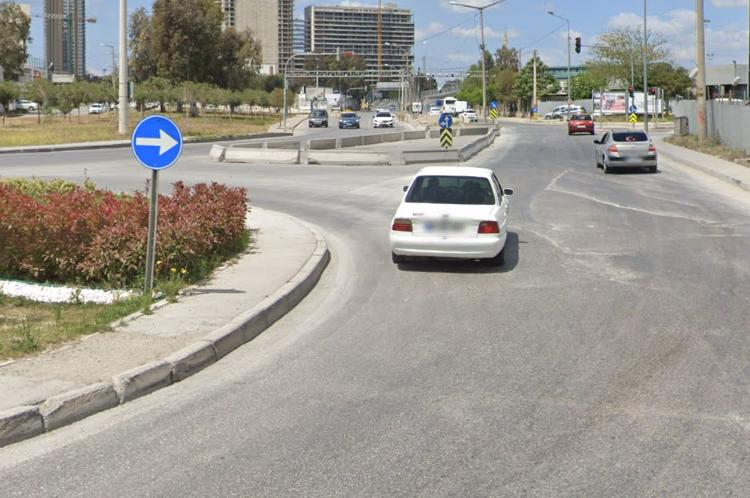turnright: (133, 115, 185, 170)
